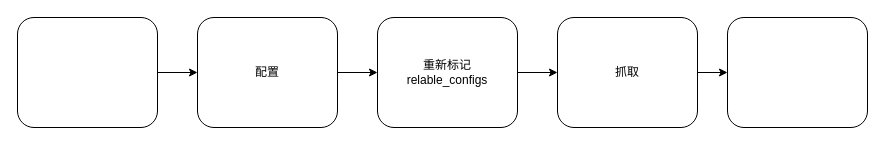
Some shapes in this 885 by 145 pixel diagram are drawn without their labels. Each missing label, with the centre of its shape:
"服务发现" goes at (x=87, y=72).
"重新标记 metric_relabel_configs （这一步，我还没有操作过）" goes at (x=797, y=72).
